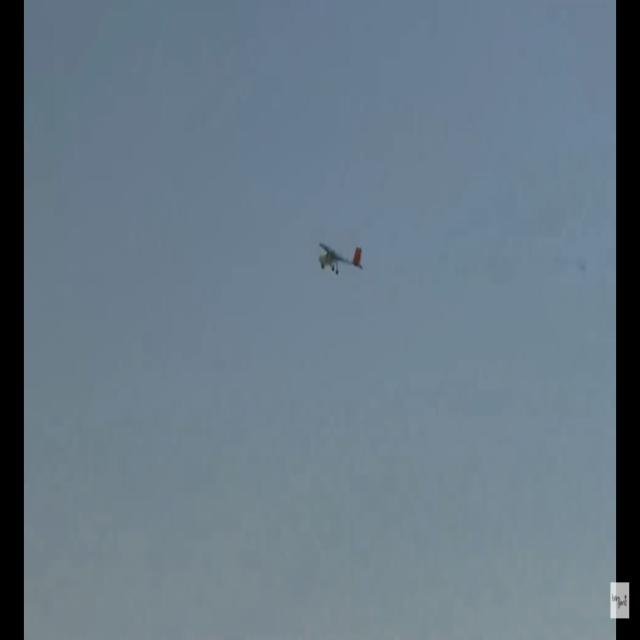iha: (318, 240, 363, 275)
